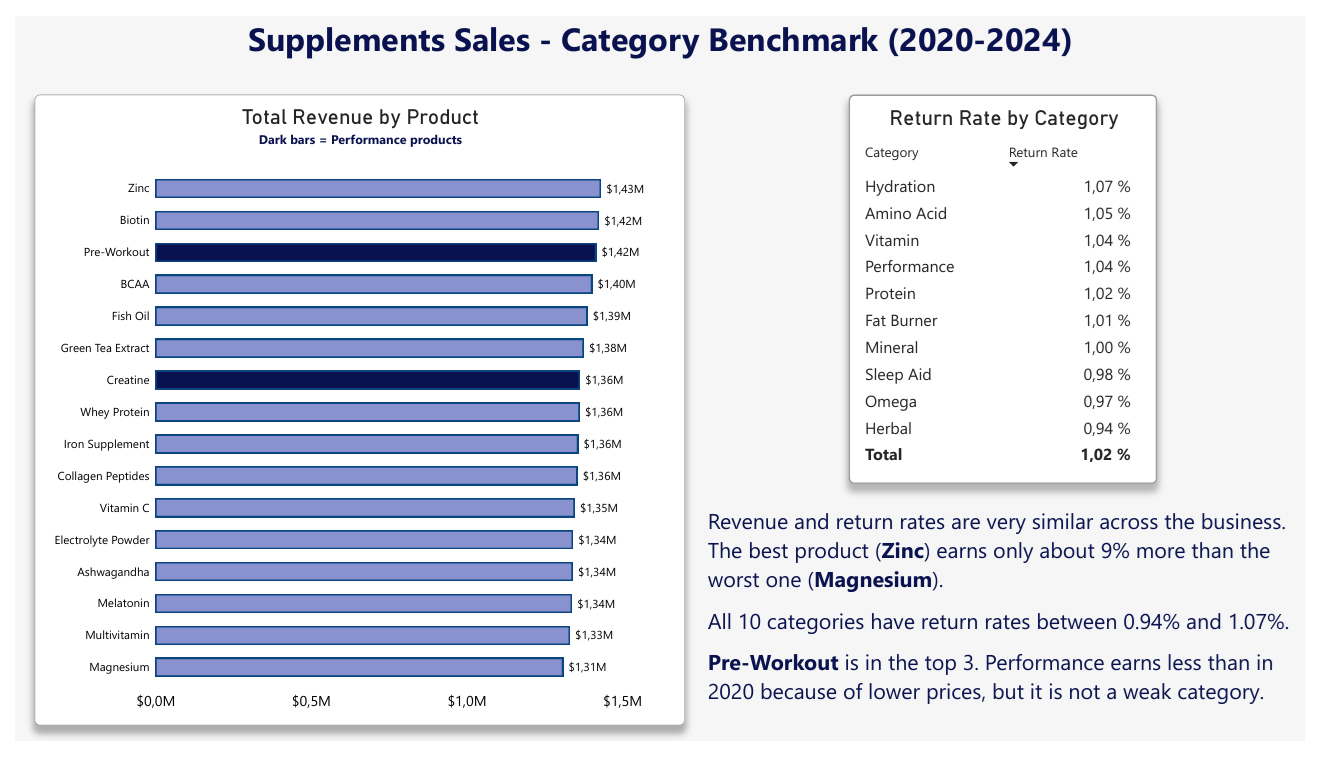

This screenshot's page, from the dashboard's own definition file:
{"tool":"powerbi","page":{"name":"Category Benchmark","canvas":[1920,1080],"ordinal":3},"visuals":[{"type":"textbox","box":[0,0,1629,117.4],"z":0},{"type":"tableEx","title":"Return Rate by Category","fields":{"Values":["dim_products.category","_medidas.avg_units_returned (%)"]},"box":[1240.7,117.4,459.6,579.9],"z":1000},{"type":"barChart","title":"Total Revenue by Product","fields":{"Category":["dim_products.product"],"Y":["_medidas.total_revenue (M)"]},"box":[28.9,117.4,968,939.1],"z":3001},{"type":"textbox","box":[1031.2,729.6,875.9,326.9],"z":3002}]}

Visuals, with their boxes in screenshot pixels (x1, y1, x2, y2), scaled from the page's 1920x1080 canvas onto the 1322x758 screenshot:
textbox: crop(0, 0, 1122, 82)
"Return Rate by Category" tableEx: crop(854, 82, 1171, 489)
"Total Revenue by Product" barChart: crop(20, 82, 686, 742)
textbox: crop(710, 512, 1313, 742)
